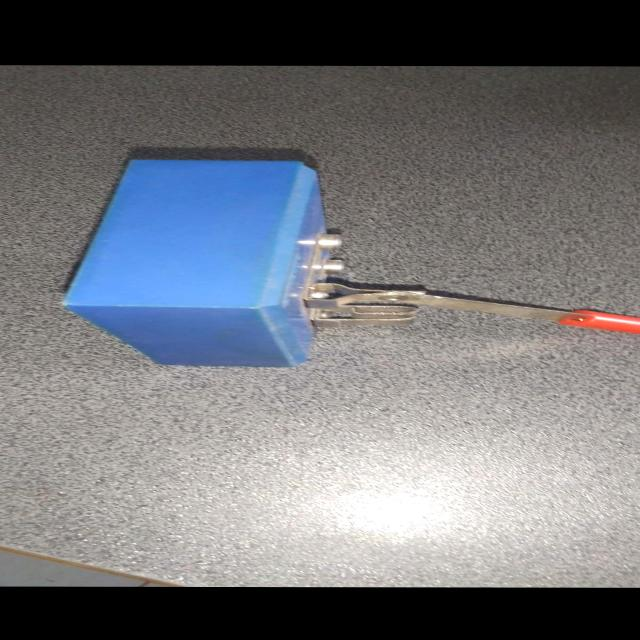L Switch: (3, 148, 640, 378)
